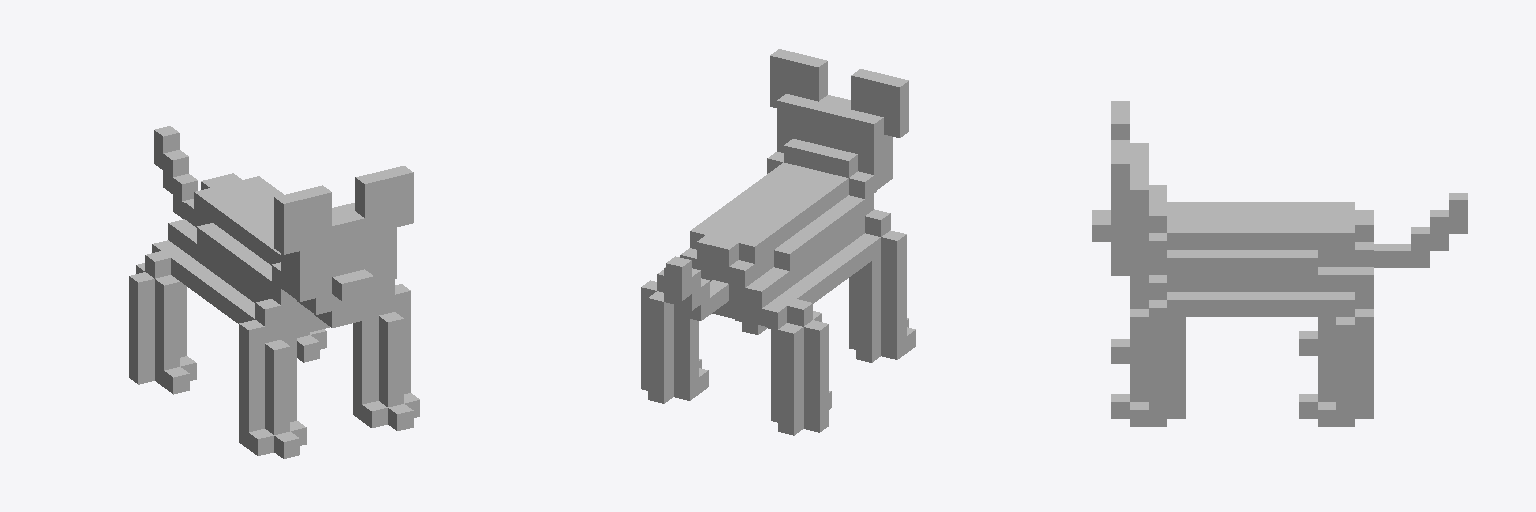
File: Enemy.obj
The picture shows the model from 3 angles: view 1: azimuth 30°, elevation 25°; view 2: azimuth 150°, elevation 25°; view 3: azimuth 270°, elevation 25°; orthographic projection.
Visible parts, largest first — view 1: object 1; view 2: object 1; view 3: object 1.
Part boxes in pixels (x1,y1,x2,y2): object 1: (129,126,419,458); object 1: (641,49,915,435); object 1: (1092,101,1467,426).
Bounding box in the file's own units: 1.1 × 1.5 × 2.